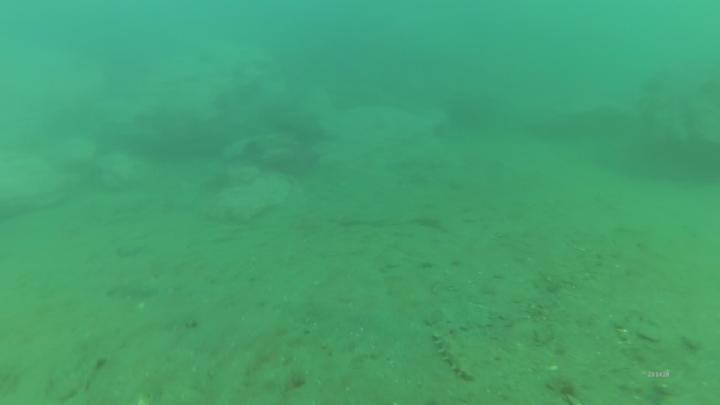holothurian: (432, 326, 478, 384)
